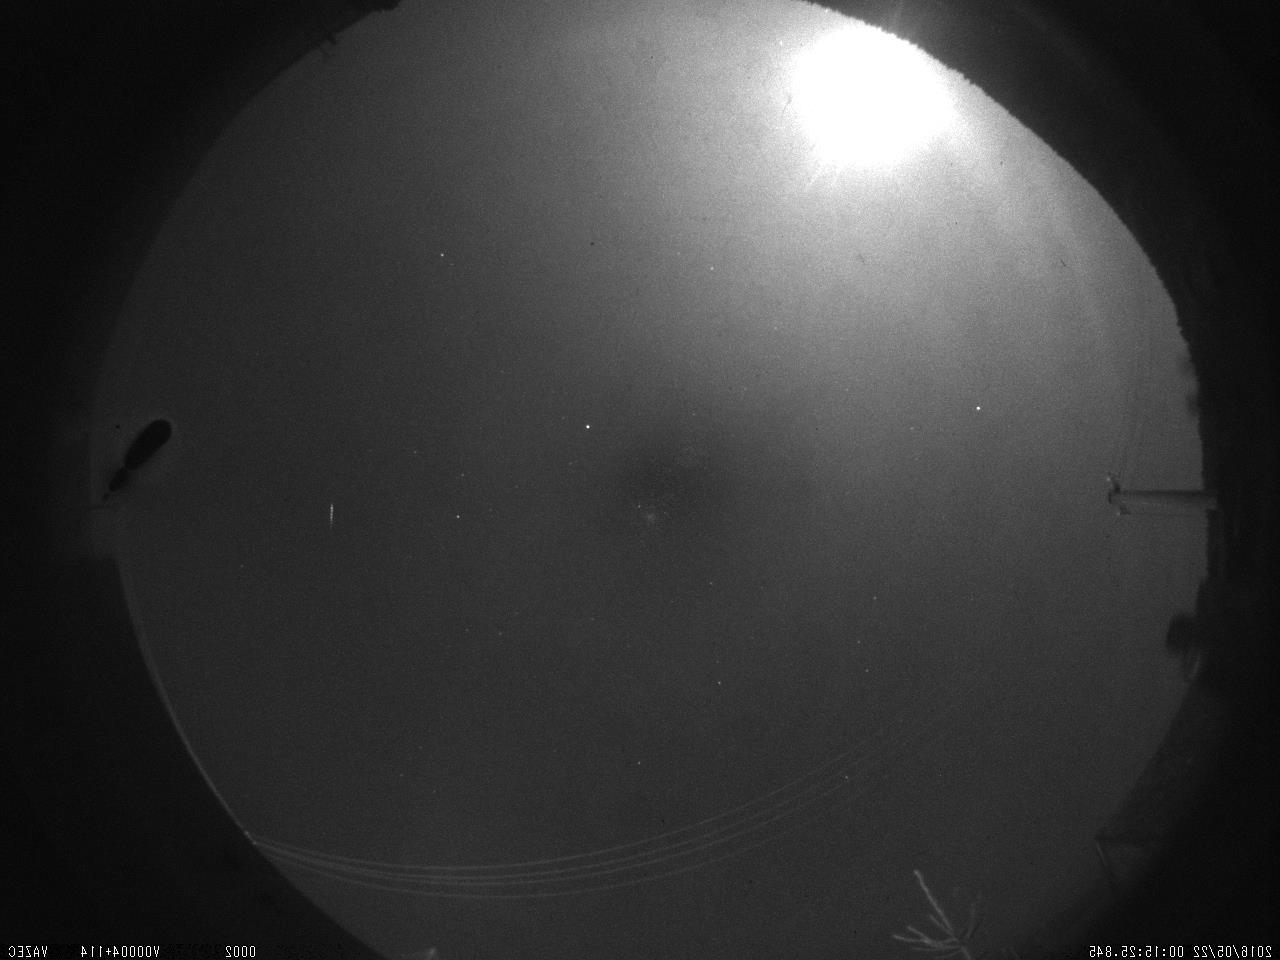meteor: (308, 490, 343, 568)
